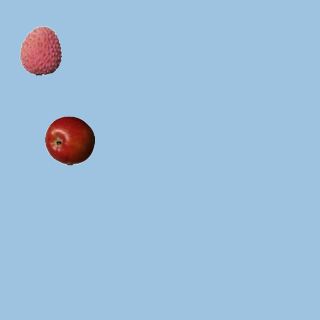Apple Braeburn: (44, 115, 94, 165)
Lychee: (15, 25, 65, 75)
